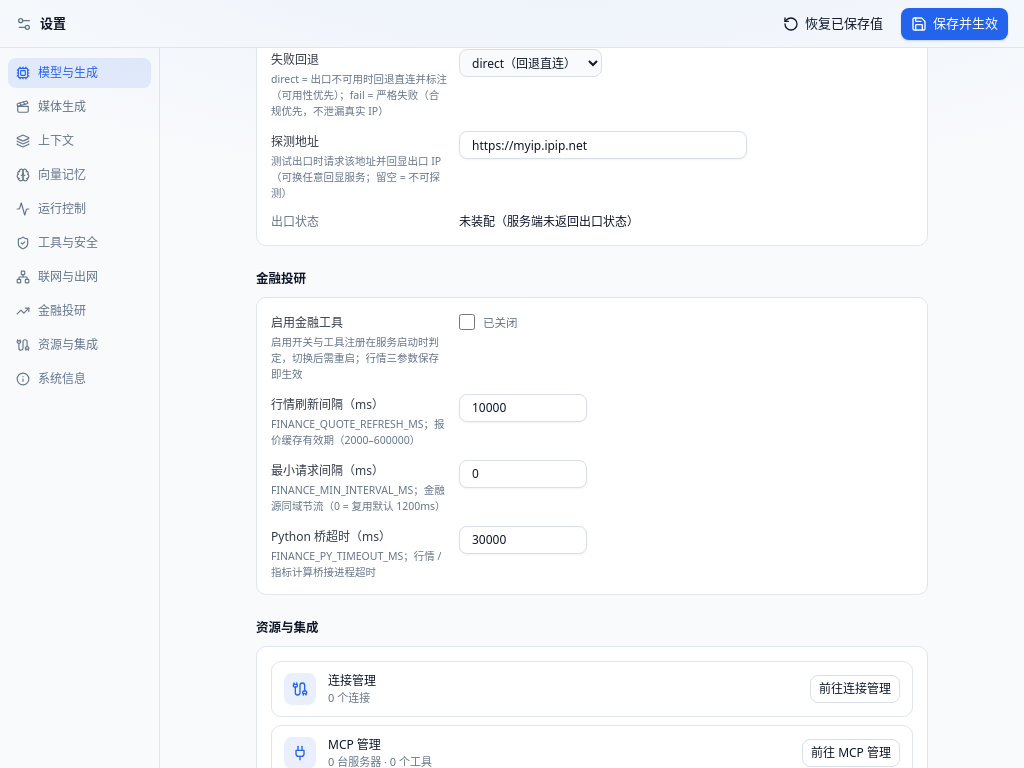
it: M36：设置主区页（SettingsView） › 修改金融参数并保存：PUT 携带全量设置；脏标记保存后消失
(page scrolled)
Expected: the text "未保存改动" is not shown
Step 1. Replace the text in the number field labelled "行情刷新间隔（ms） FINANCE_QUOTE_REFRESH_MS；报价缓存有效期（2000–600000）" with "20000" → (523, 408), box [459, 394, 587, 422]
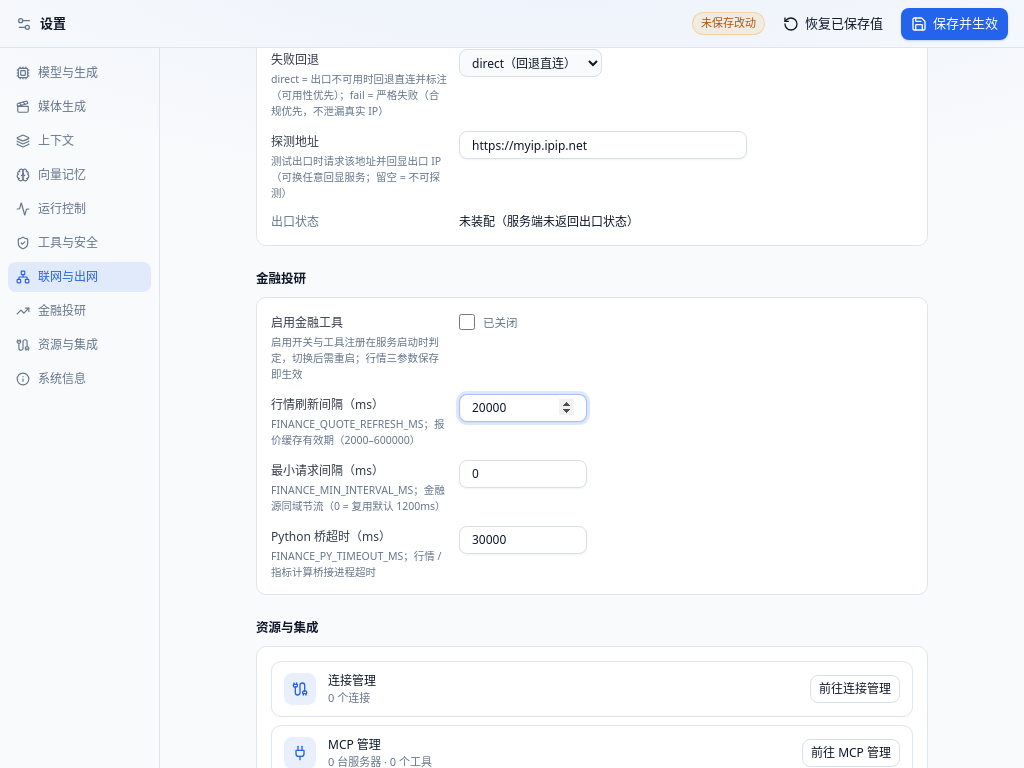
Result: the text "未保存改动" is shown at [692, 12, 765, 35]
Step 2. Click the button "保存并生效" → (954, 24), box [901, 8, 1008, 40]
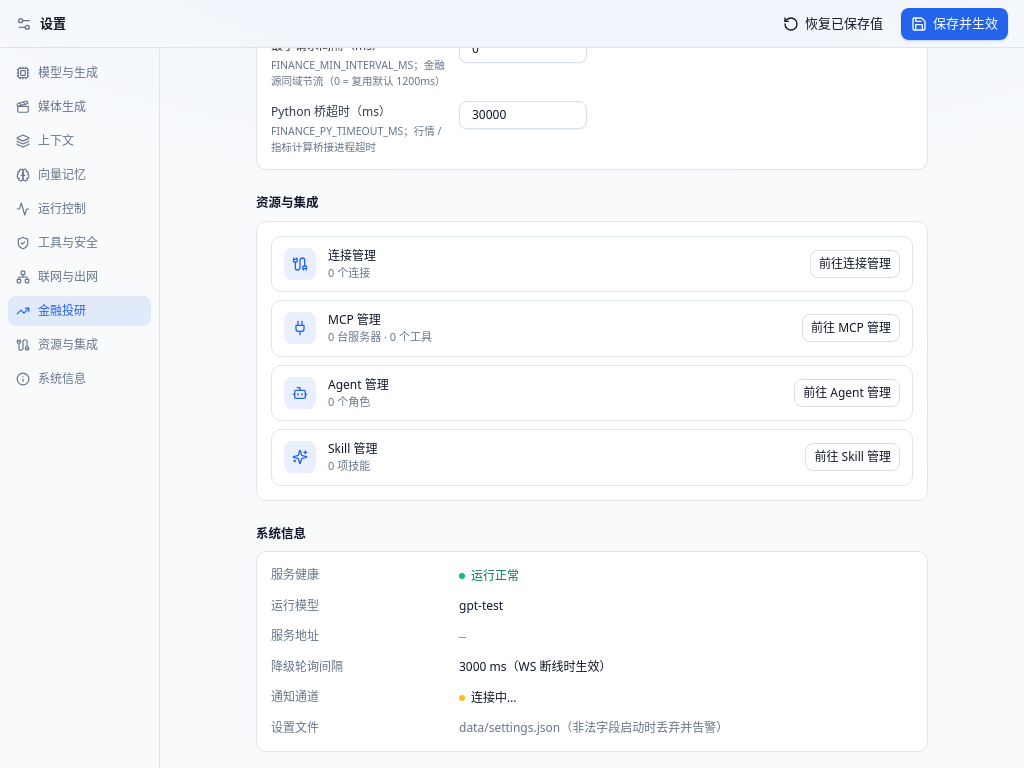
Result: the text "gpt-test" is shown at [459, 597, 503, 614]
Result: the text "未保存改动" is gone
